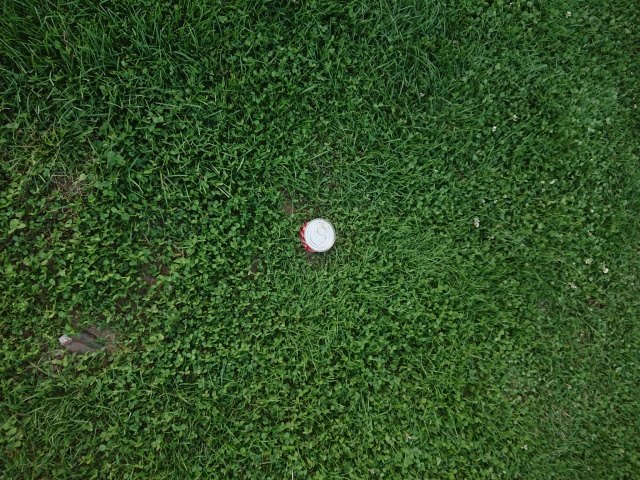Podravka Luncheon Meat 150g: (298, 215, 338, 256)
